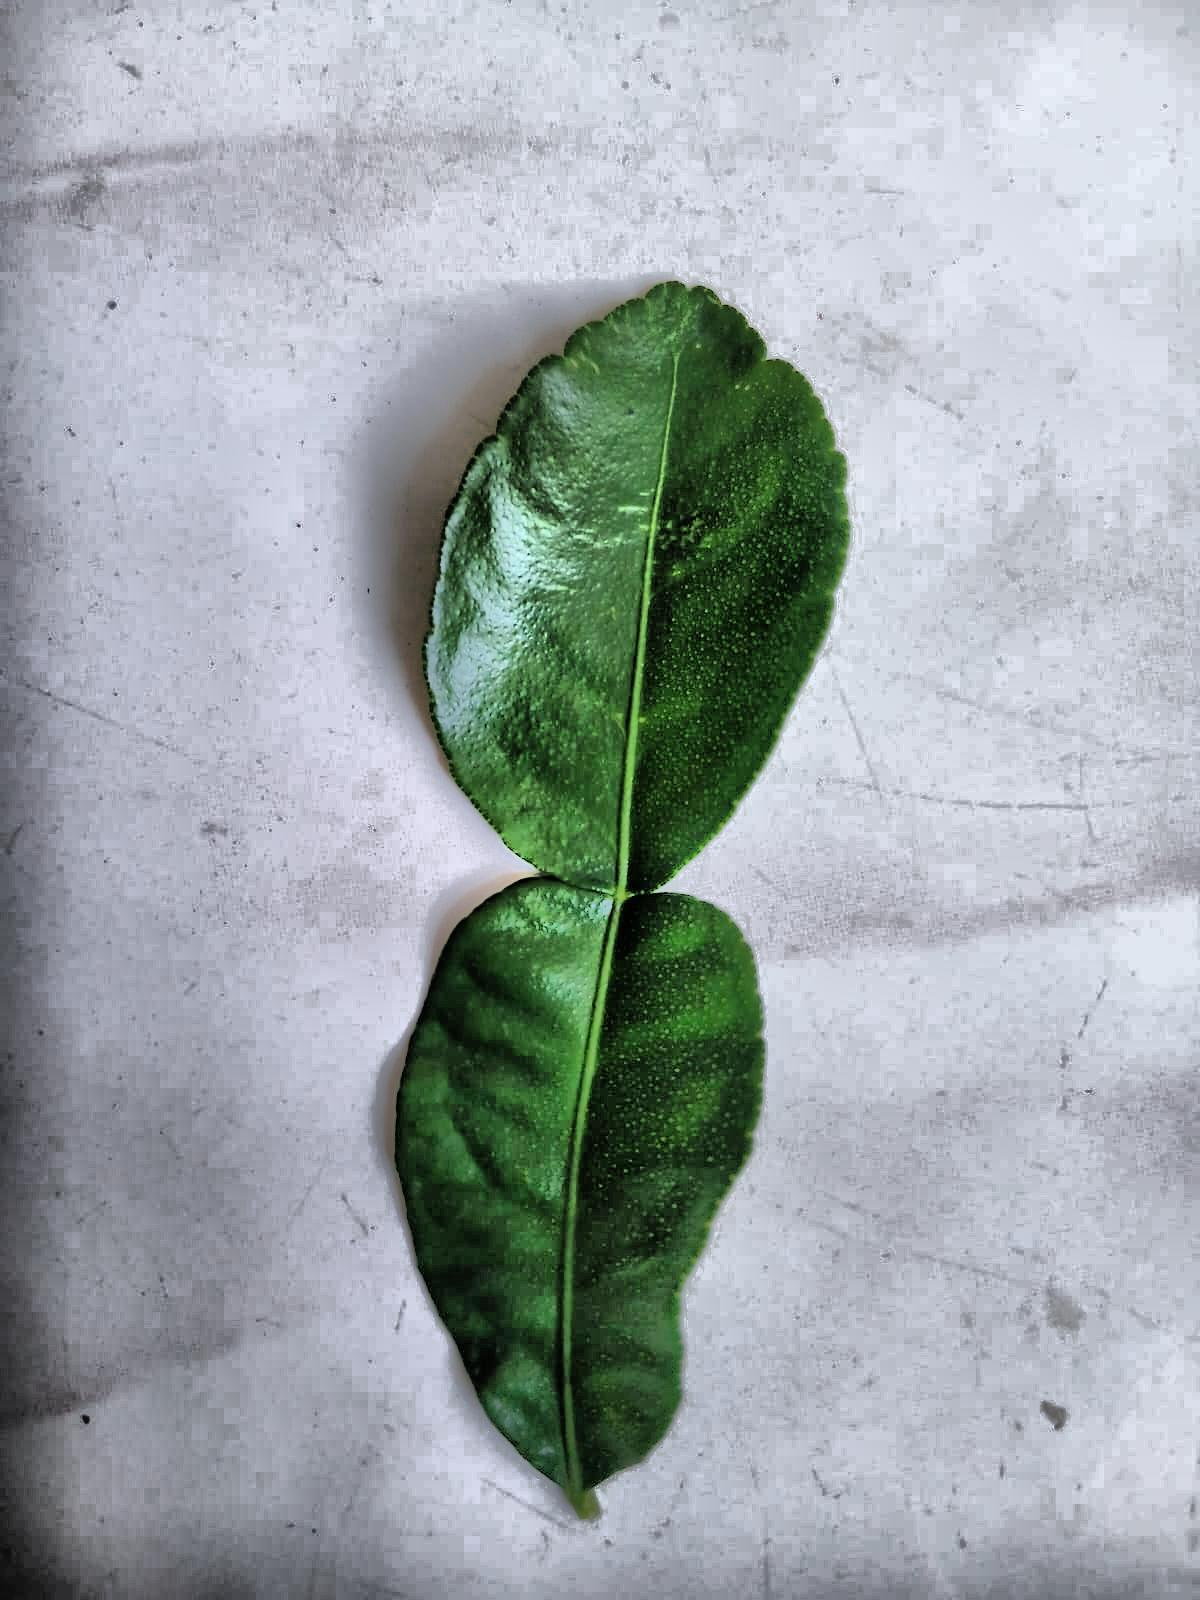daun jeruk: (395, 282, 847, 1516)
